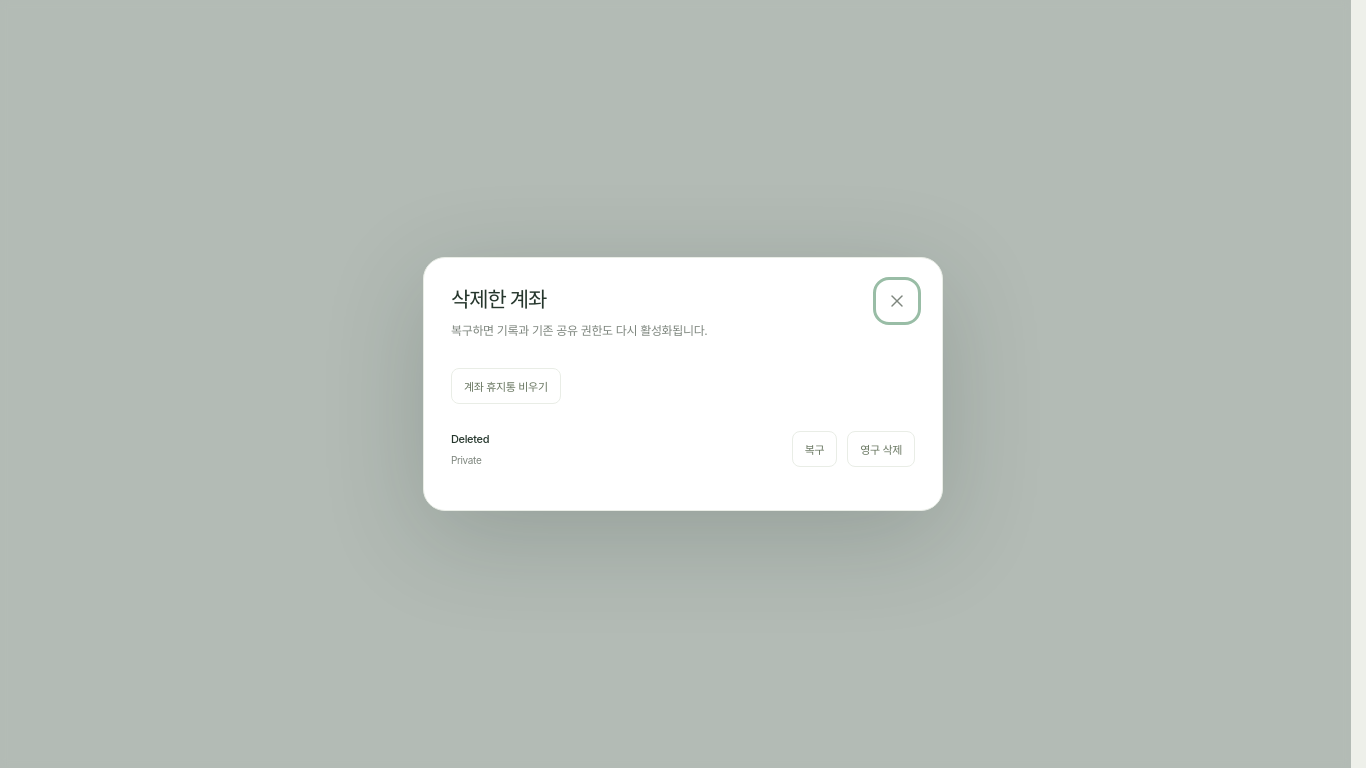
계좌·기록 휴지통과 저장 단축키 › 계좌 휴지통 비우기는 화면에 표시한 계좌만 확인 후 삭제한다
Click the button "계좌 휴지통 비우기".
click(506, 386)  # box [451,368,561,404]
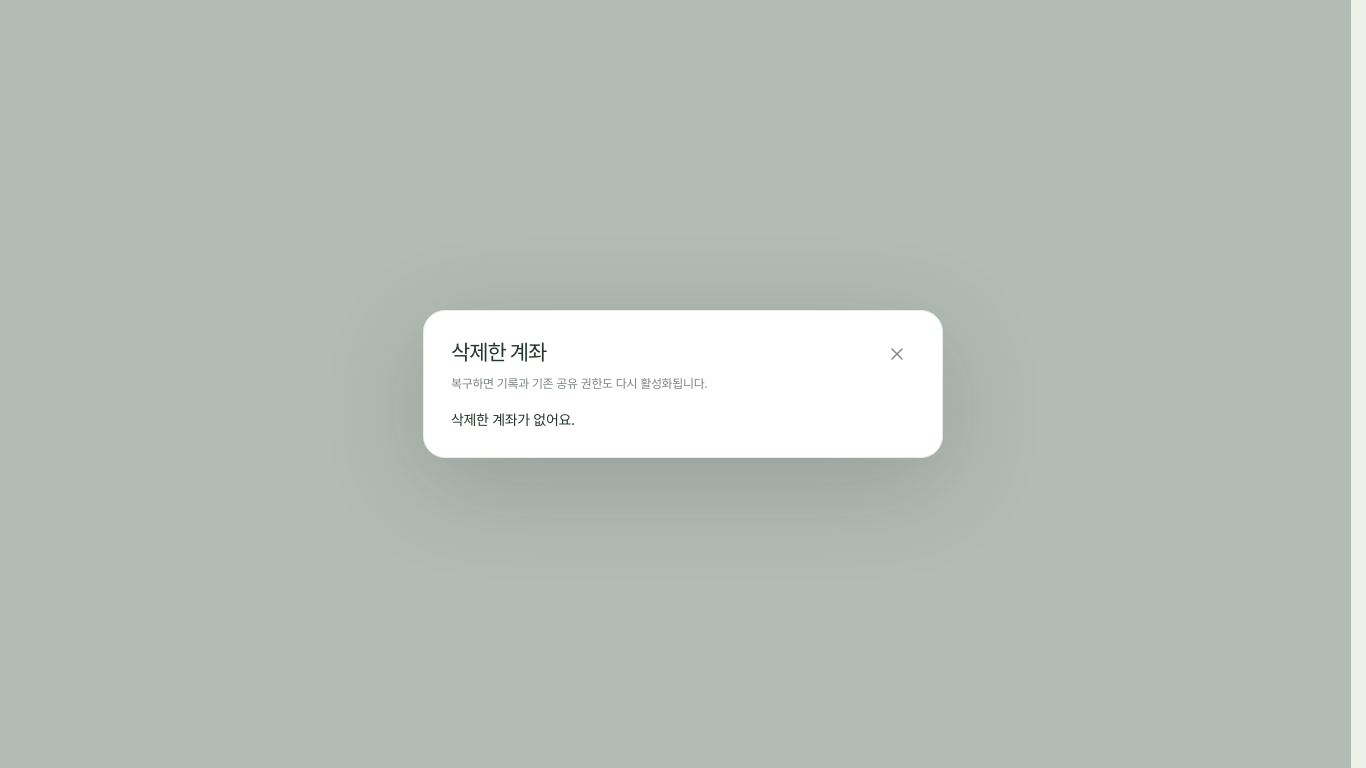
Expected: the text "삭제한 계좌가 없어요." is shown, [451,411,575,428]
